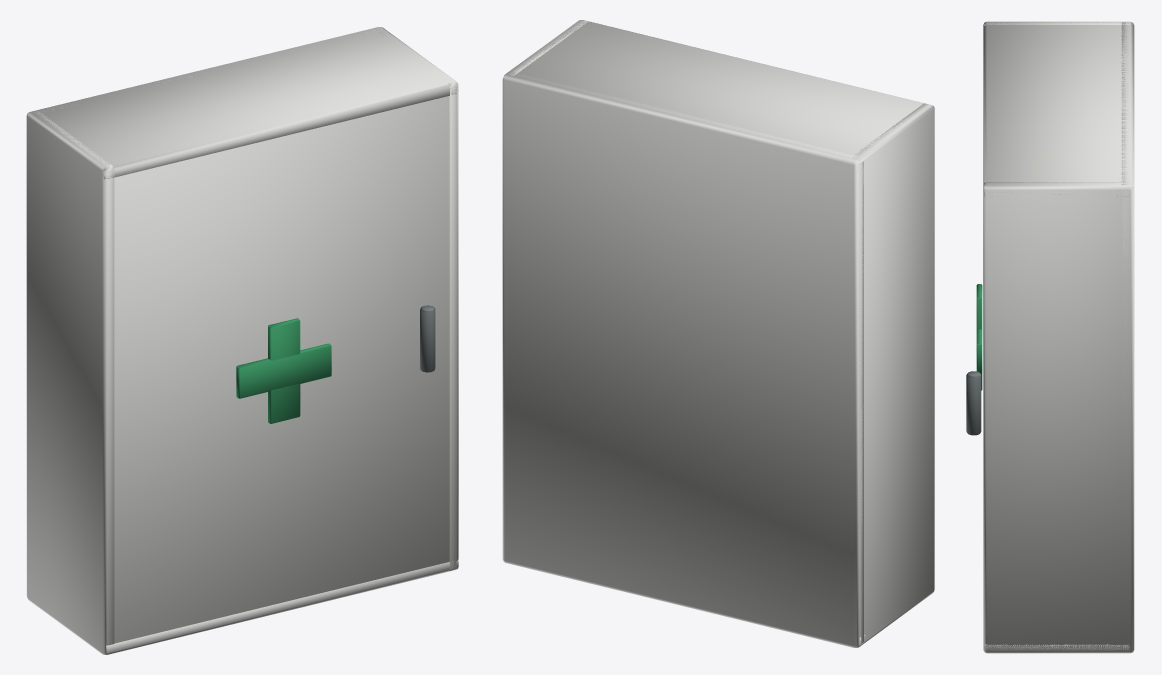
The model's file is asset_092_first_aid_kit_cabinet.glb.
3 views of the same model, side by side, from view 1: azimuth 30°, elevation 25°; view 2: azimuth 150°, elevation 25°; view 3: azimuth 270°, elevation 25° (orthographic). The views are drawn at different scales.
Visible parts, largest first — view 1: MESH_FirstAidDoorPanel, MESH_FirstAidSideL, MESH_FirstAidTop, MESH_FirstAidSideR, MESH_FirstAidBottom, MESH_FirstAidCrossH, MESH_FirstAidCrossV, MESH_FirstAidBack, MESH_FirstAidHandle; view 2: MESH_FirstAidBack, MESH_FirstAidSideL, MESH_FirstAidTop, MESH_FirstAidSideR; view 3: MESH_FirstAidSideR, MESH_FirstAidTop, MESH_FirstAidBack, MESH_FirstAidBottom, MESH_FirstAidHandle, MESH_FirstAidSideL, MESH_FirstAidCrossV, MESH_FirstAidCrossH.
Part boxes in pixels (<box>): MESH_FirstAidDoorPanel: <box>114,96,449,643</box>; MESH_FirstAidSideL: <box>27,111,114,654</box>; MESH_FirstAidTop: <box>28,27,457,179</box>; MESH_FirstAidSideR: <box>375,27,458,570</box>; MESH_FirstAidBottom: <box>29,559,458,654</box>; MESH_FirstAidCrossH: <box>236,343,331,398</box>; MESH_FirstAidCrossV: <box>268,318,300,423</box>; MESH_FirstAidBack: <box>26,27,382,596</box>; MESH_FirstAidHandle: <box>420,305,435,372</box>; MESH_FirstAidBack: <box>502,71,863,647</box>; MESH_FirstAidSideL: <box>853,103,934,647</box>; MESH_FirstAidTop: <box>504,20,923,161</box>; MESH_FirstAidSideR: <box>505,20,588,75</box>; MESH_FirstAidSideR: <box>983,182,1131,652</box>; MESH_FirstAidTop: <box>983,22,1130,196</box>; MESH_FirstAidBack: <box>1121,22,1134,652</box>; MESH_FirstAidBottom: <box>984,644,1131,653</box>; MESH_FirstAidHandle: <box>966,371,981,435</box>; MESH_FirstAidSideL: <box>983,21,1130,25</box>; MESH_FirstAidCrossV: <box>976,284,982,390</box>; MESH_FirstAidCrossH: <box>976,329,982,373</box>.
Size of the model in its own units: 0.43 by 0.56 by 0.193.
